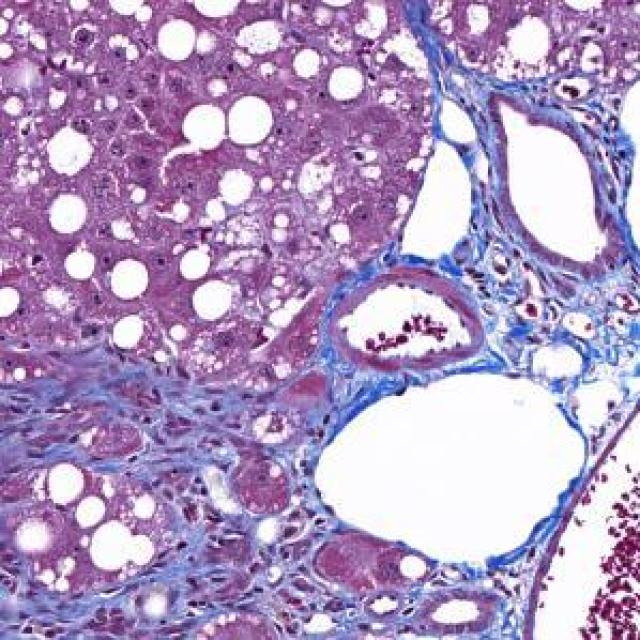fibrosis: (0, 342, 255, 464), (124, 535, 345, 640), (477, 257, 640, 392)
